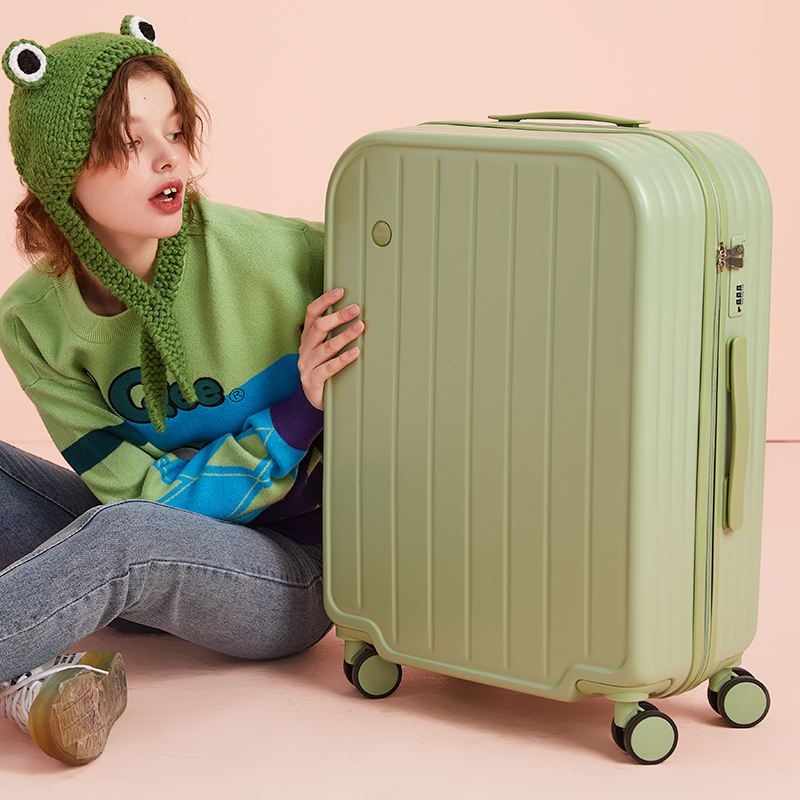box: (321, 119, 773, 706)
handle: (722, 336, 750, 533), (489, 111, 652, 130)
lock: (719, 234, 746, 318)
wheel: (611, 700, 679, 765), (706, 667, 771, 728), (342, 643, 402, 699)
